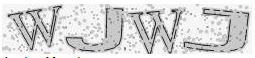J: (183, 7, 251, 52), (64, 5, 127, 53)
W: (125, 7, 186, 57), (7, 4, 63, 53)
